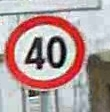limite 40: (2, 13, 87, 91)
